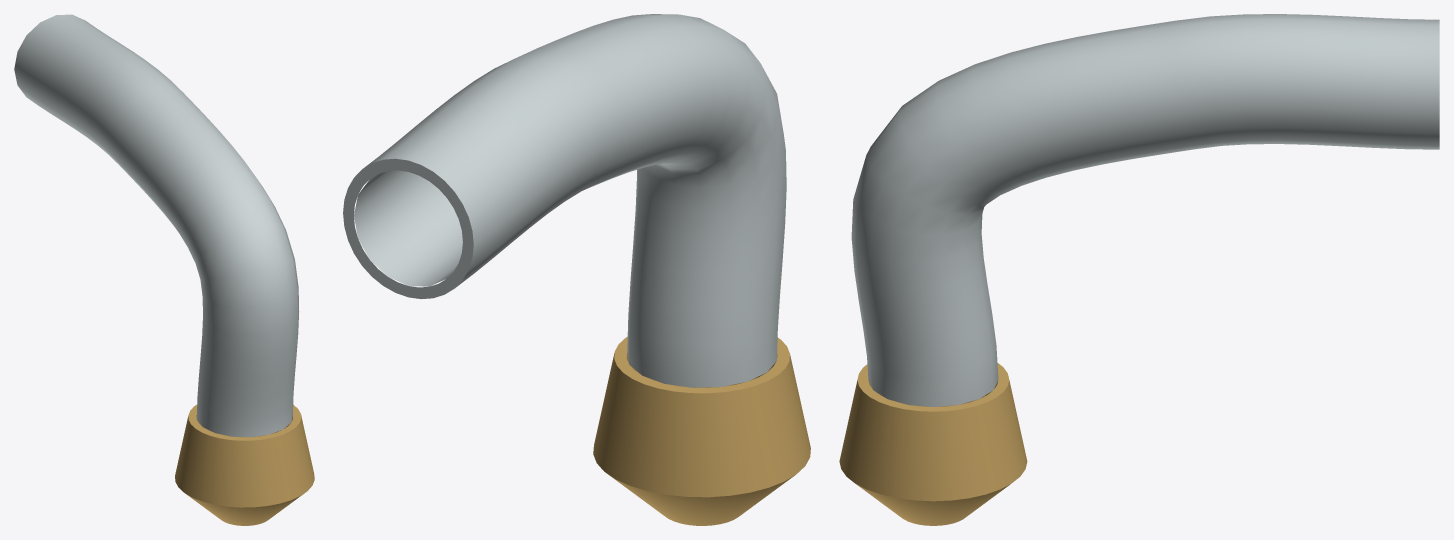
File: mushroom-farm-and-grow-rooms-mist-nozzle-52fe8ff2__30834.glb
3 views of the same model, side by side, from view 1: azimuth 30°, elevation 25°; view 2: azimuth 150°, elevation 25°; view 3: azimuth 270°, elevation 25° (orthographic). The views are drawn at different scales.
Visible parts, largest first — view 1: mist-nozzle; view 2: mist-nozzle; view 3: mist-nozzle.
Boxes of the visible parts, x1,y1,x2,y2 form: mist-nozzle: [14, 14, 314, 525]; mist-nozzle: [343, 14, 810, 525]; mist-nozzle: [839, 14, 1439, 525].
Bounding box in the file's own units: 0.052 × 0.1498 × 0.166.
